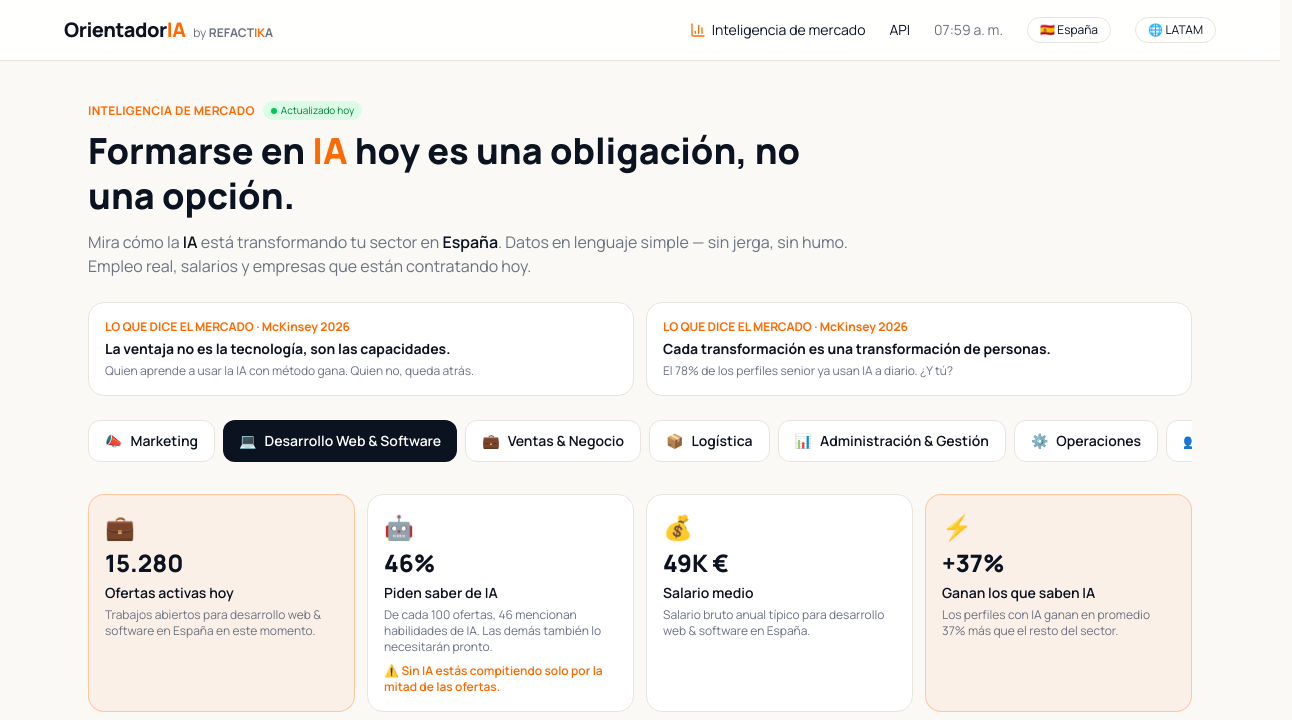
Test: MarketIntelPage (Inteligencia de mercado, D-028, sin login) › cambiar de sector actualiza las métricas mostradas
What coordinates should you click on to do the following:
click the button with test id "market-sector-tab-marketing"
I would click on:
 (152, 441)
Its box is [88,420,215,462].
(page scrolled)
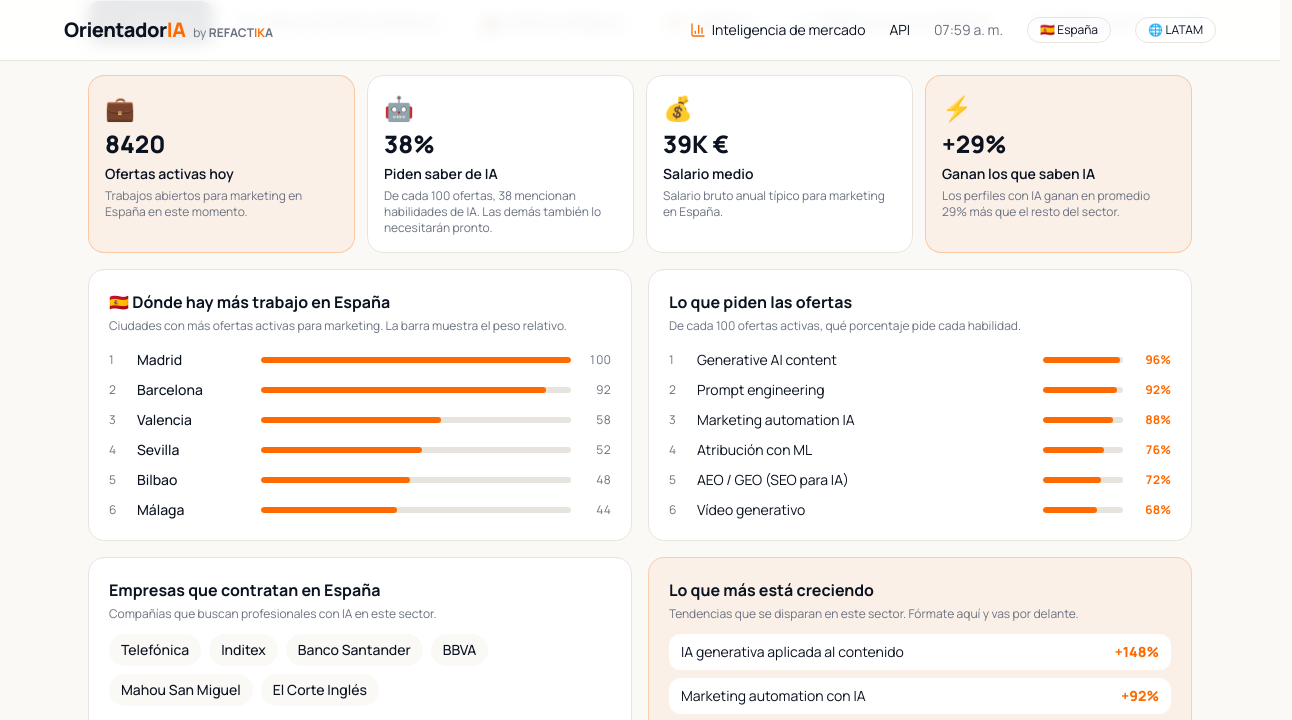
Result: the text "8420" is shown at [105,127,165,160]
Result: the text "Generative AI content" is shown at [697,350,837,369]
